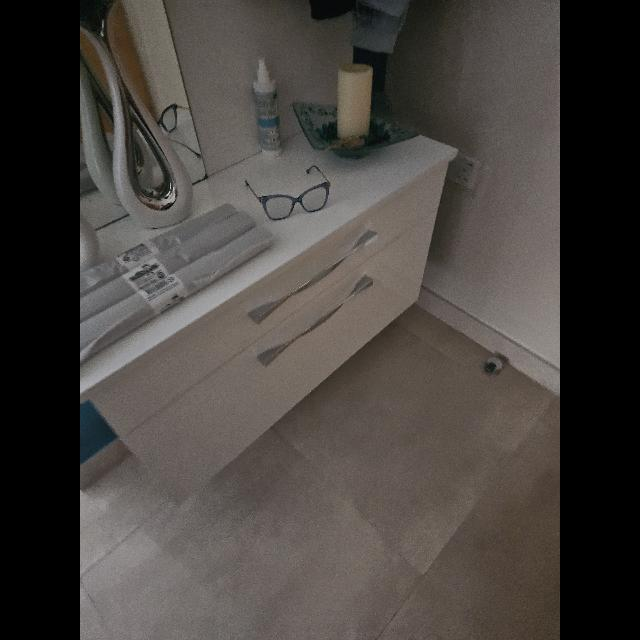glasses: (246, 166, 330, 220), (157, 103, 201, 159)
